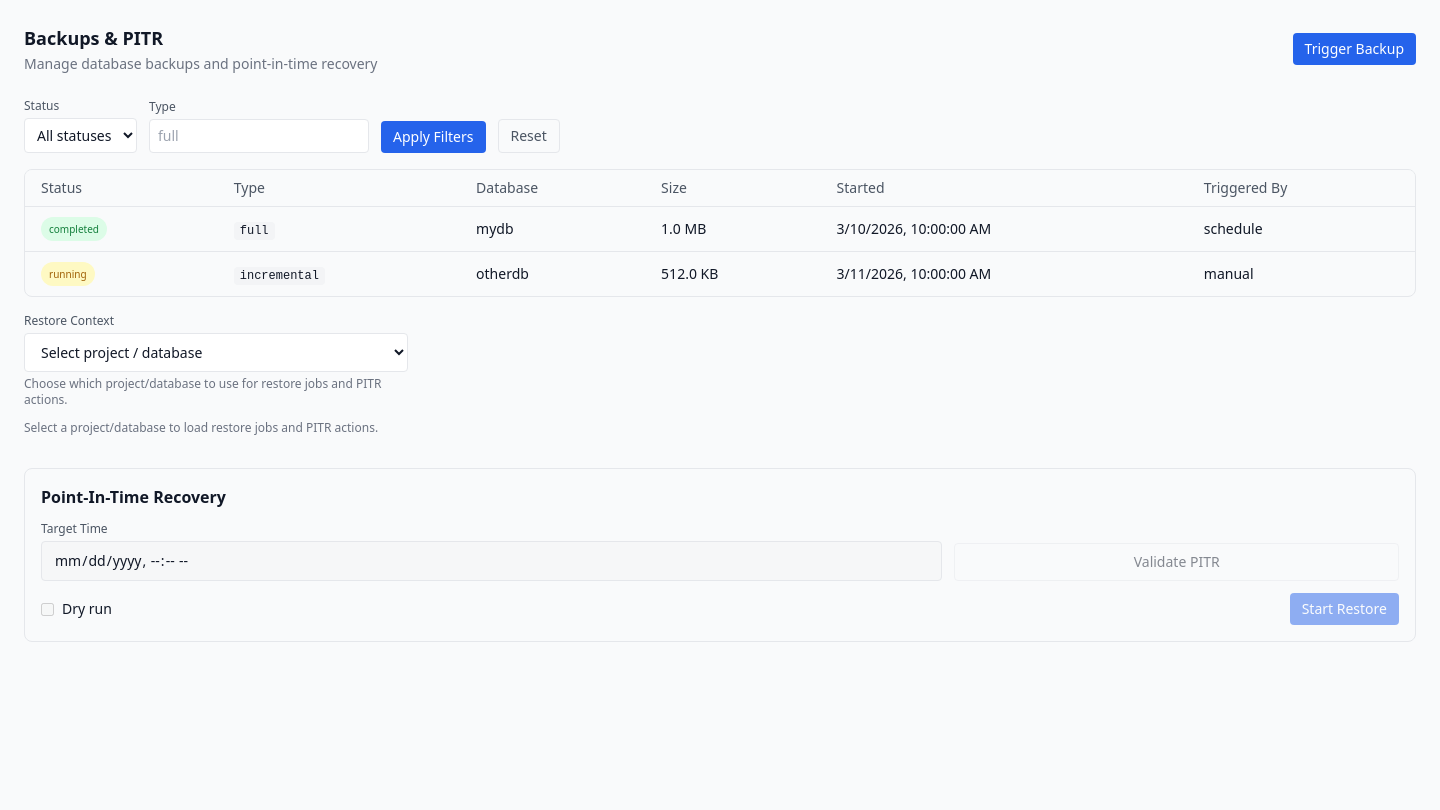
Test: Backups › clears previous restore jobs while a different restore context is loading
The width and height of the screenshot is (1440, 810).
Select "project-1 / db-1" in the dropdown labelled "Restore Context": [216, 352] box [24,333,408,372]
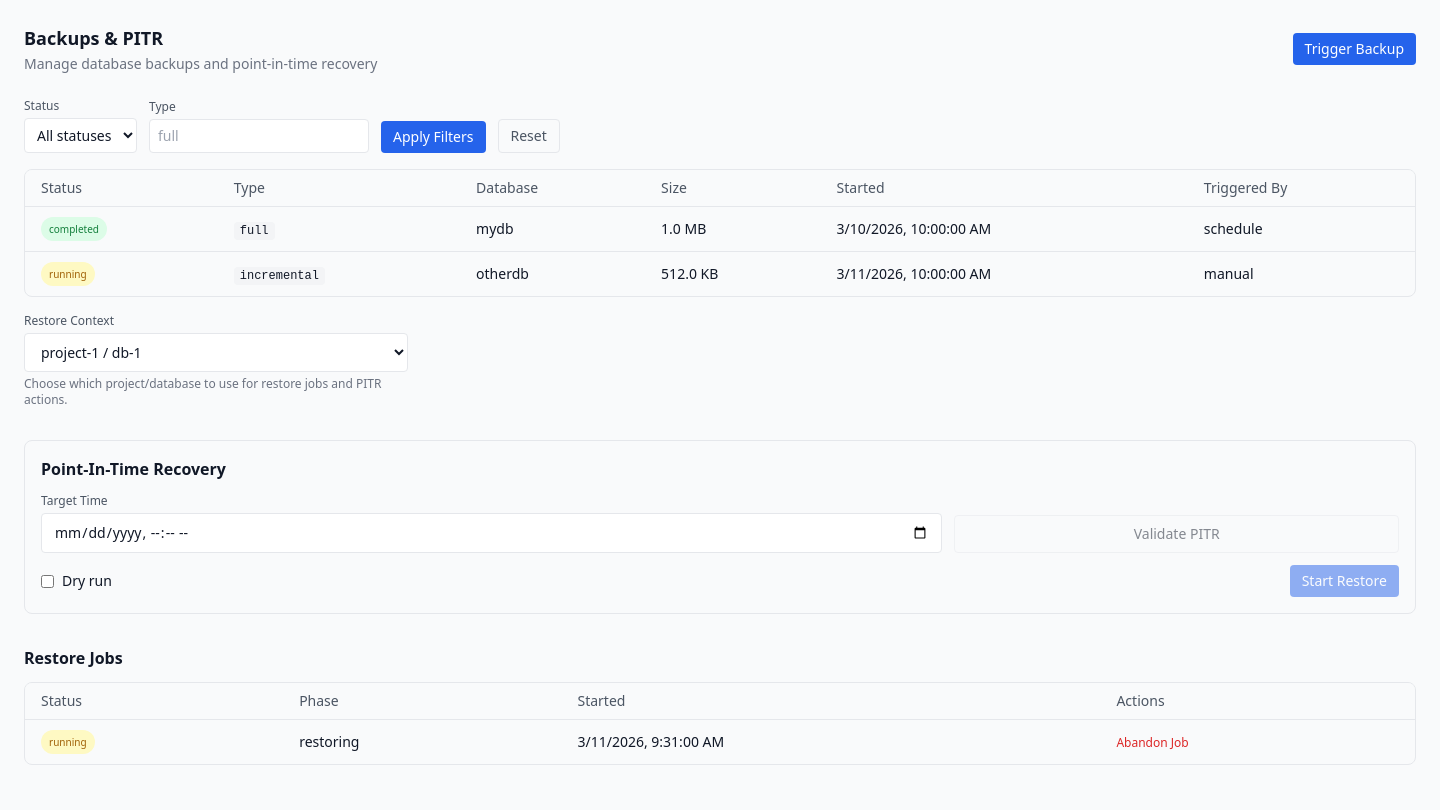
Expected: the heading "Restore Jobs" is shown, [24,647,123,669]
Select "project-2 / db-2" in the dropdown labelled "Restore Context": [216, 352] box [24,333,408,372]
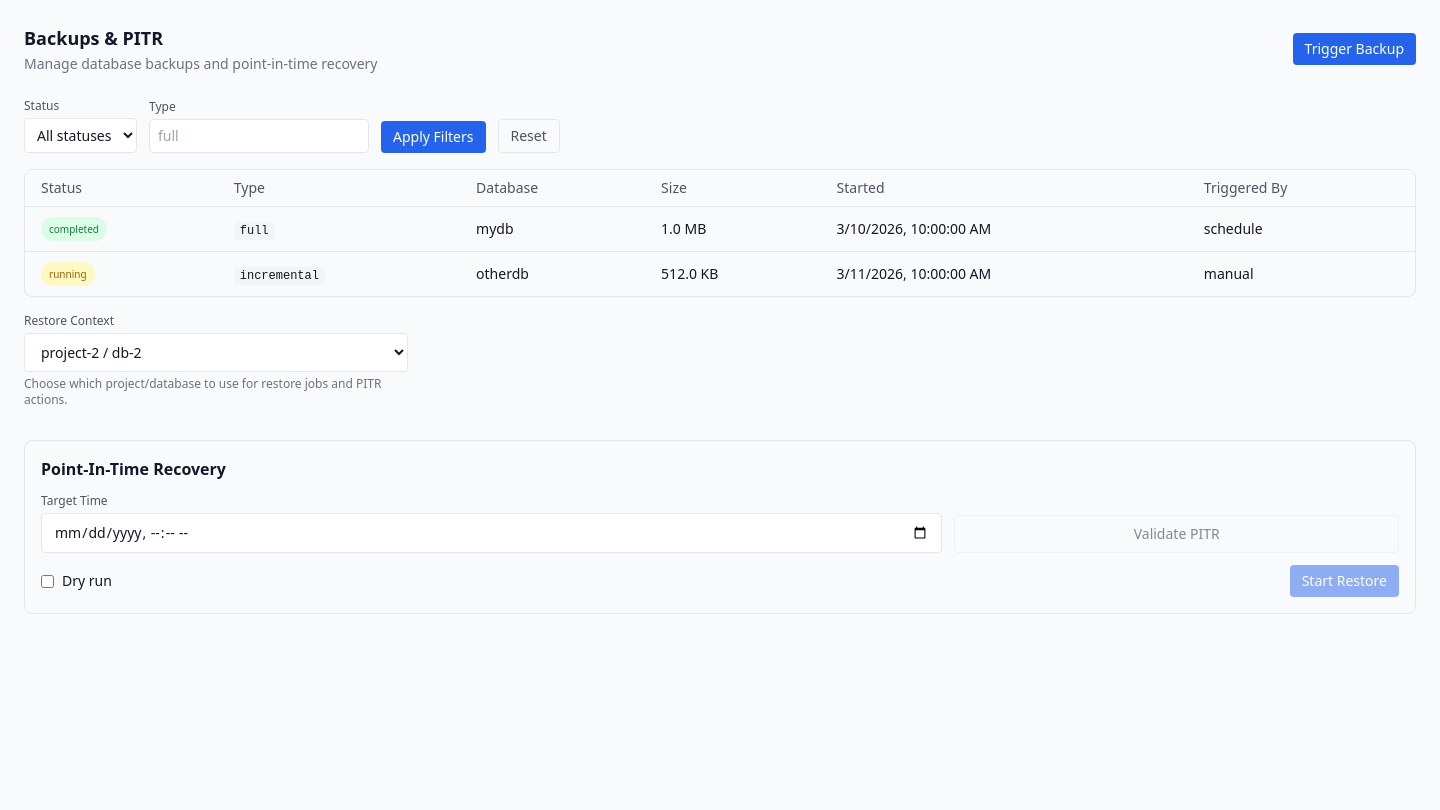
Result: the text "restoring" is gone
